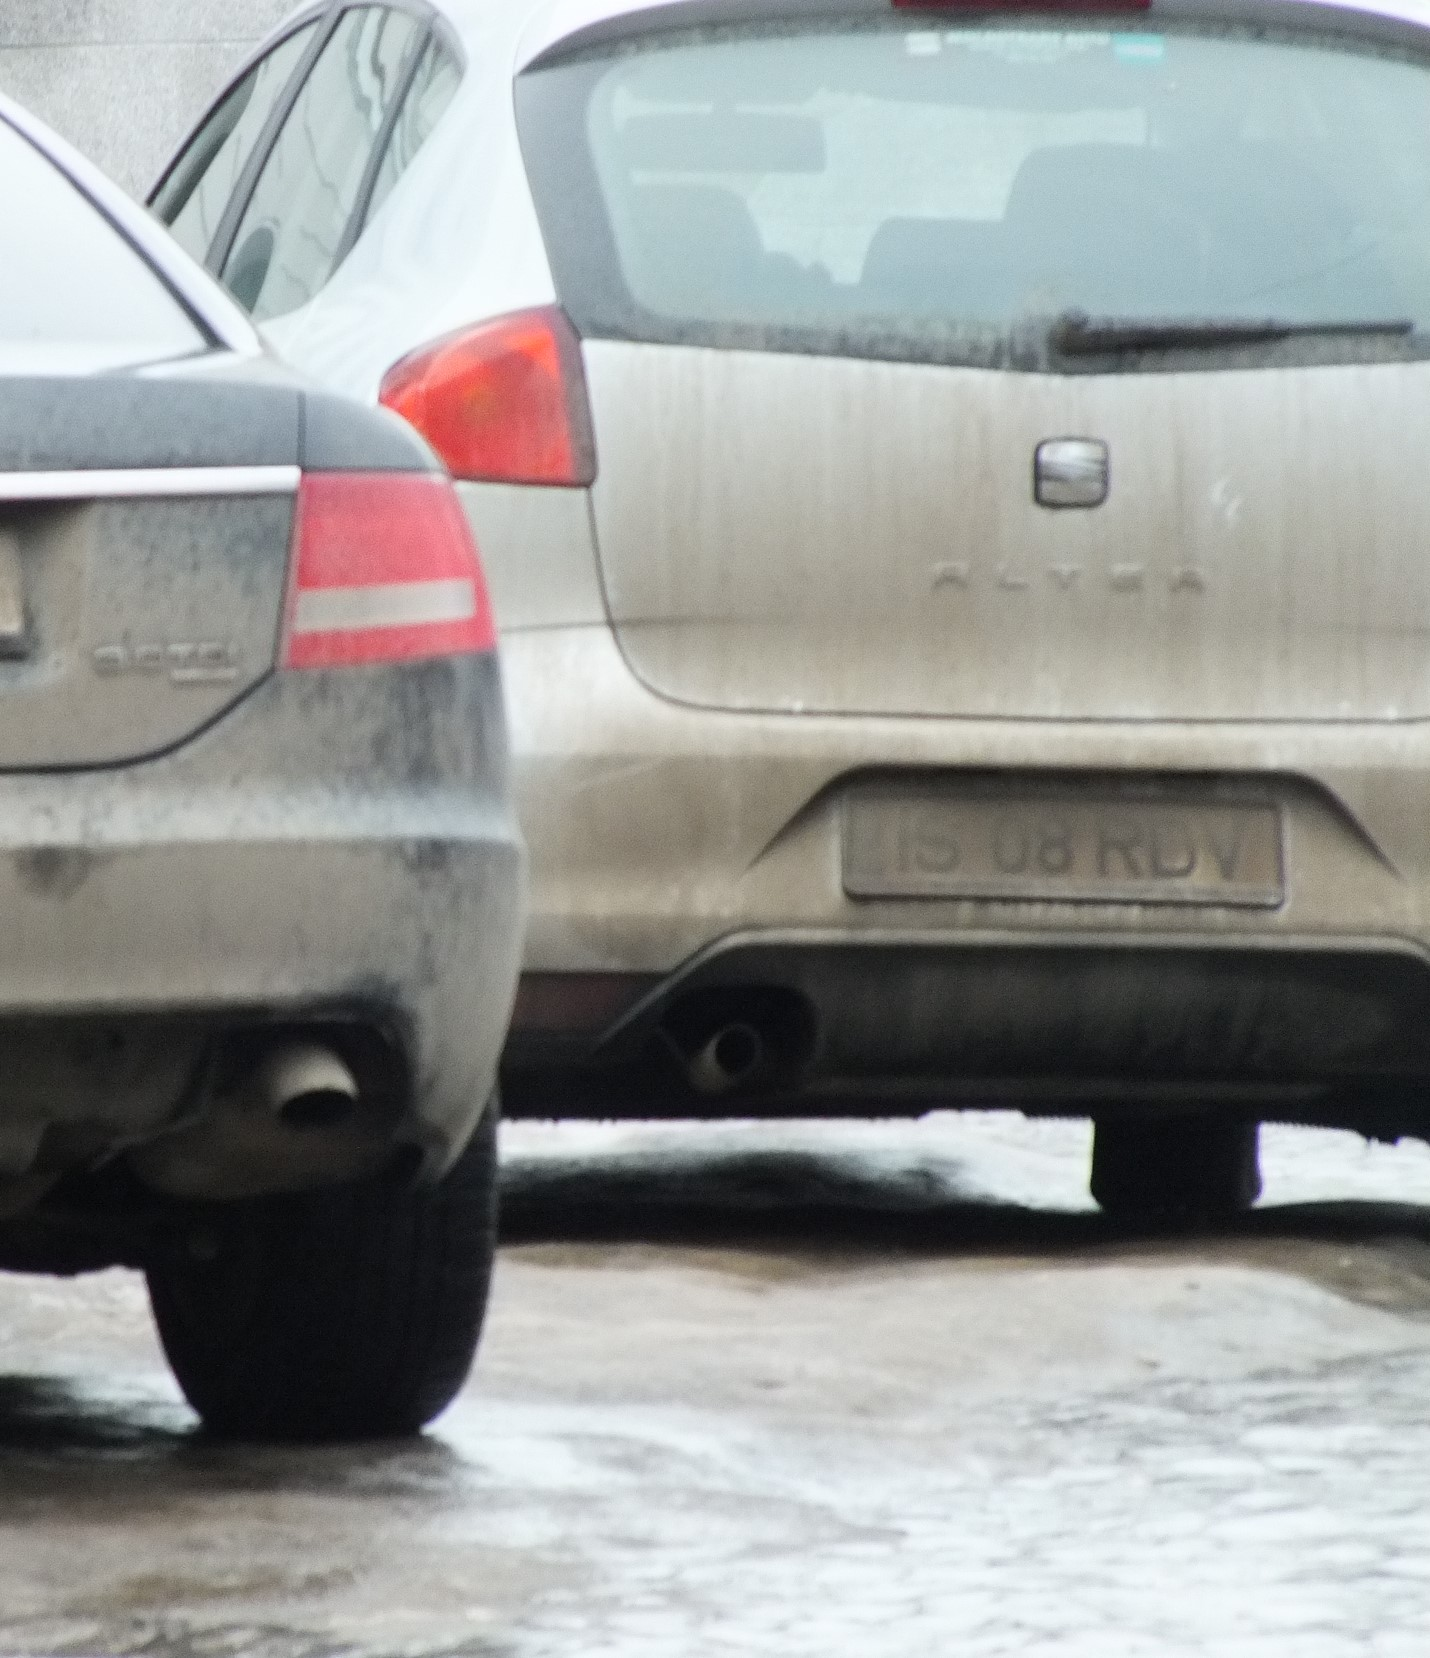IS08RDV: (840, 782, 1294, 907)
